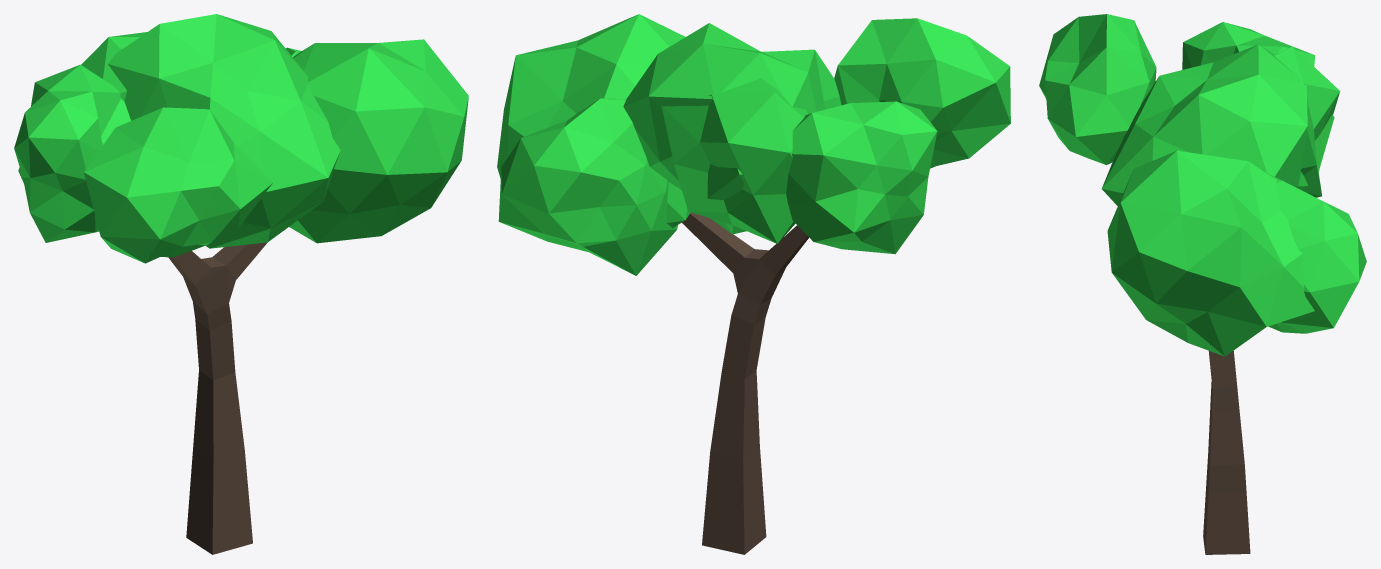
The model's file is Tree.fbx.
The picture shows the model from 3 angles, left to right: view 1: azimuth 30°, elevation 25°; view 2: azimuth 150°, elevation 25°; view 3: azimuth 270°, elevation 25°; orthographic projection. The views are drawn at different scales.
Visible parts, largest first — view 1: AnimeTree; view 2: AnimeTree; view 3: AnimeTree.
Boxes of the visible parts, x1,y1,x2,y2 form: AnimeTree: (14, 14, 468, 554); AnimeTree: (497, 14, 1010, 554); AnimeTree: (1039, 14, 1366, 554).
Size of the model in its own units: 91.35 by 105 by 64.87.
